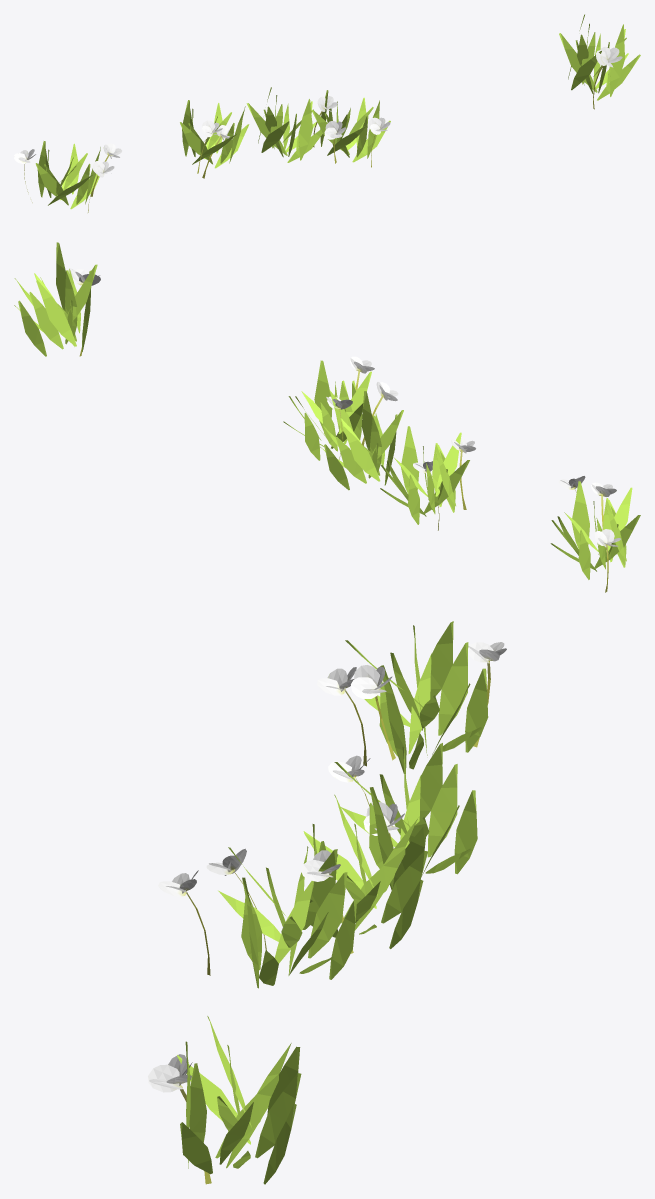
Rendered from Grass.001.fbx.
3 views of the same model, one above another, from view 1: azimuth 30°, elevation 25°; view 2: azimuth 150°, elevation 25°; view 3: azimuth 270°, elevation 25° (orthographic). The views are drawn at different scales.
Parts seen in each view (by area): view 1: Grass.001_Baked; view 2: Grass.001_Baked; view 3: Grass.001_Baked.
Part boxes in pixels (box(x1,y1,x2,y2)): Grass.001_Baked: box(14, 14, 640, 212); Grass.001_Baked: box(14, 242, 640, 592); Grass.001_Baked: box(148, 621, 506, 1184).
Size of the model in its own units: 39.15 by 7.17 by 11.02.
Materials: 1 (1 with a texture image).
